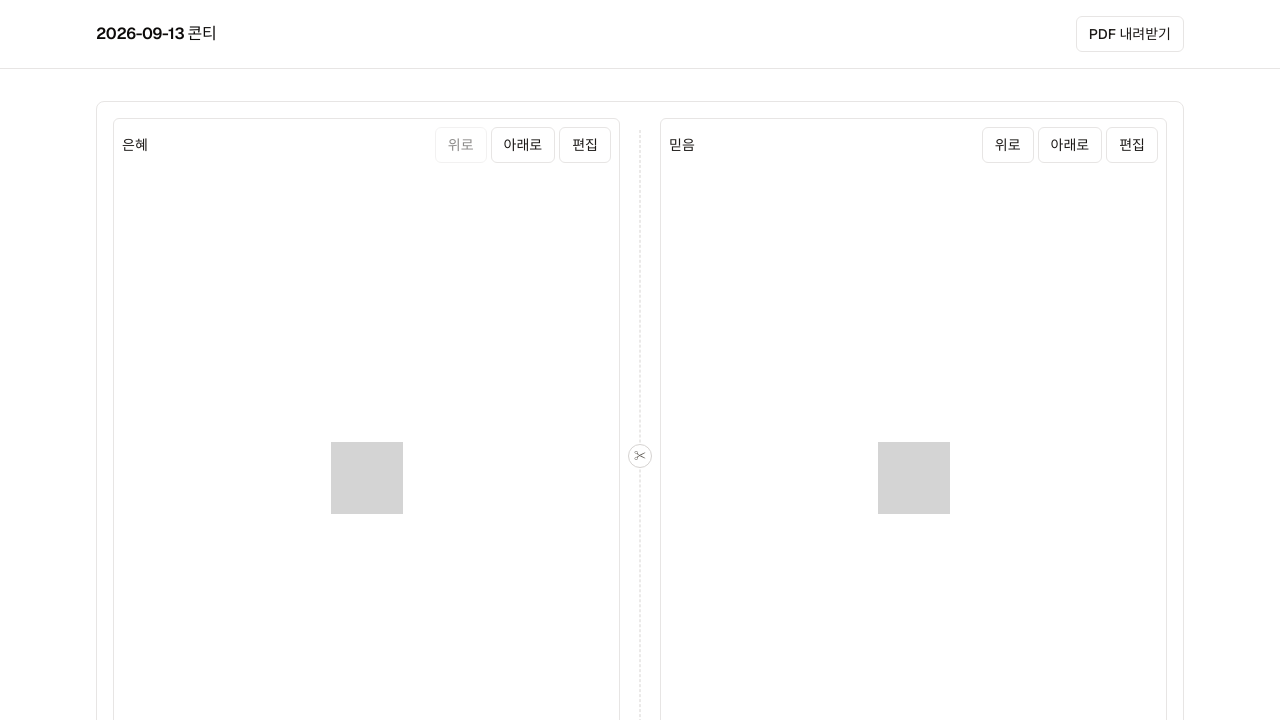
it: PDF 내려받기 › PDF가 실패하면 문구를 보이고 진행 표시를 풀어야 한다
Click the button "PDF 내려받기" at (1130, 34), box [1076,16,1184,52]
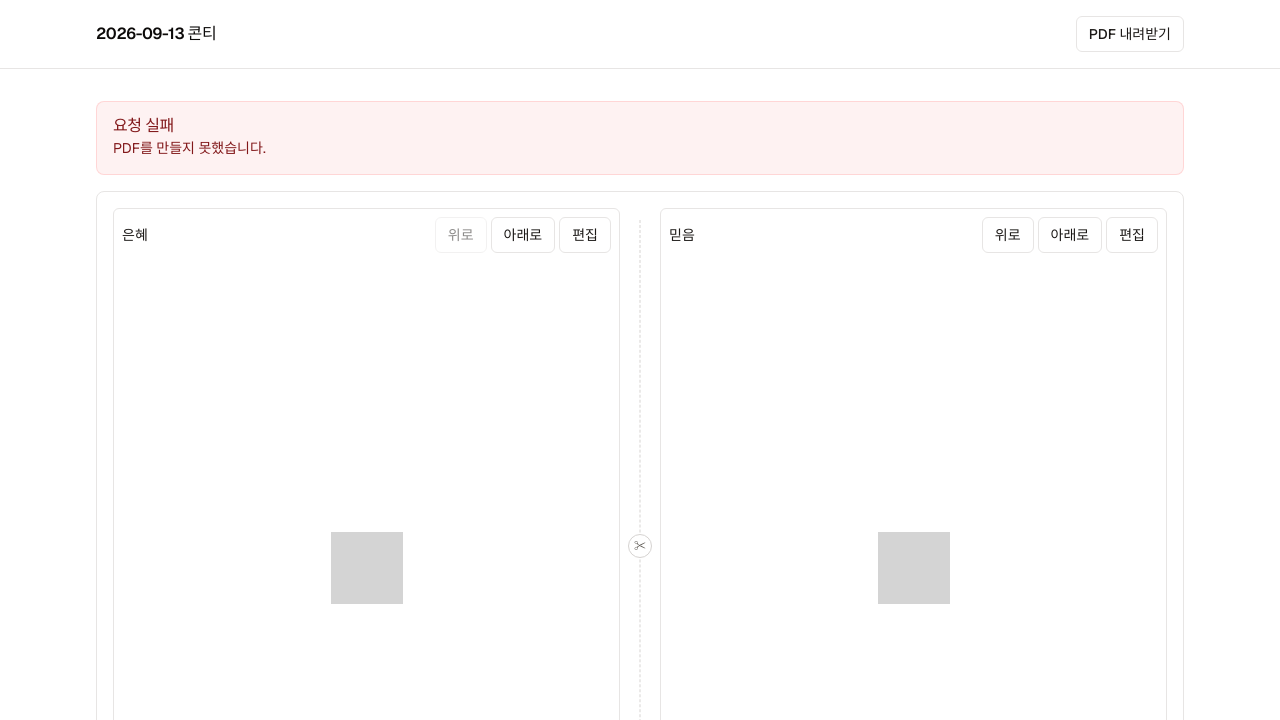
Expected: the message shows "PDF를 만들지 못했습니다.", [113,139,266,157]
